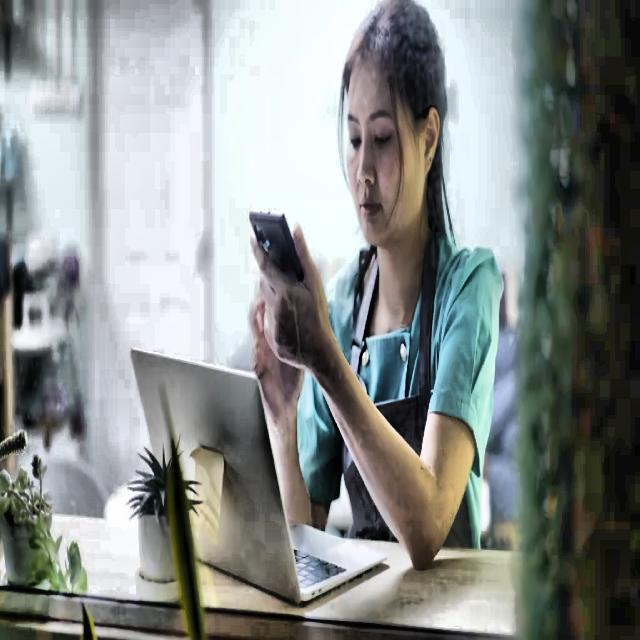Phone: (246, 203, 311, 296)
